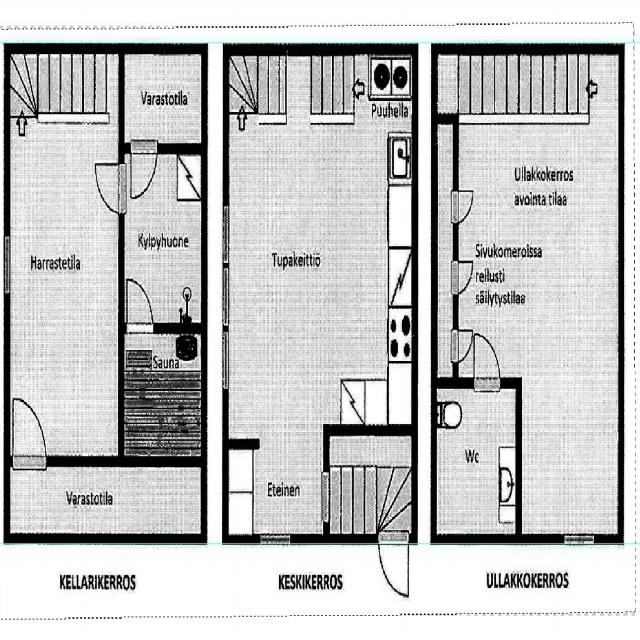door: (12, 392, 46, 467), (379, 533, 409, 601), (130, 143, 158, 206), (127, 274, 153, 333), (93, 163, 124, 212), (475, 330, 500, 388), (452, 188, 476, 220), (452, 260, 475, 292), (452, 330, 475, 361)
